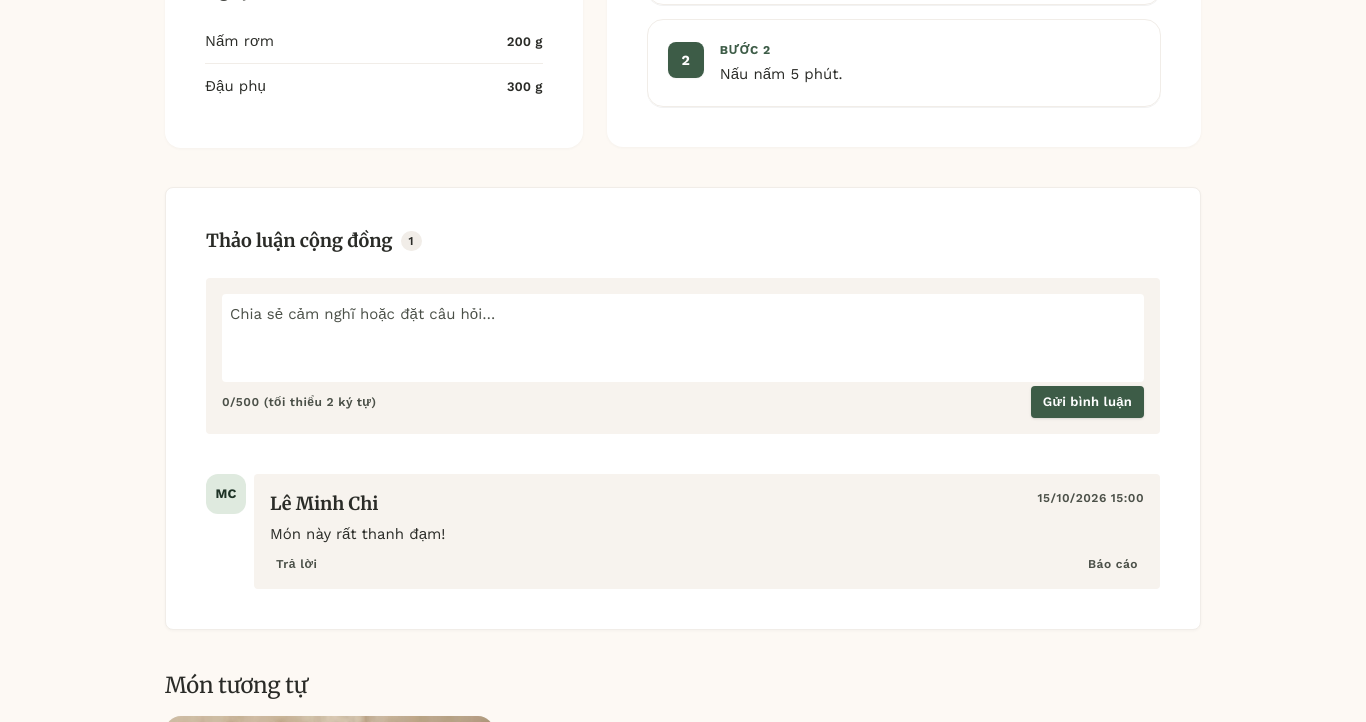
it: RecipeDetail (SCR-12) › Thành viên › bình luận gốc gọi POST /recipes/{id}/comments không kèm parentCommentId
(page scrolled)
Type "Ngon và dễ làm!" into the text box named "Viết bình luận" at x=683, y=338, box [222,294,1144,382]
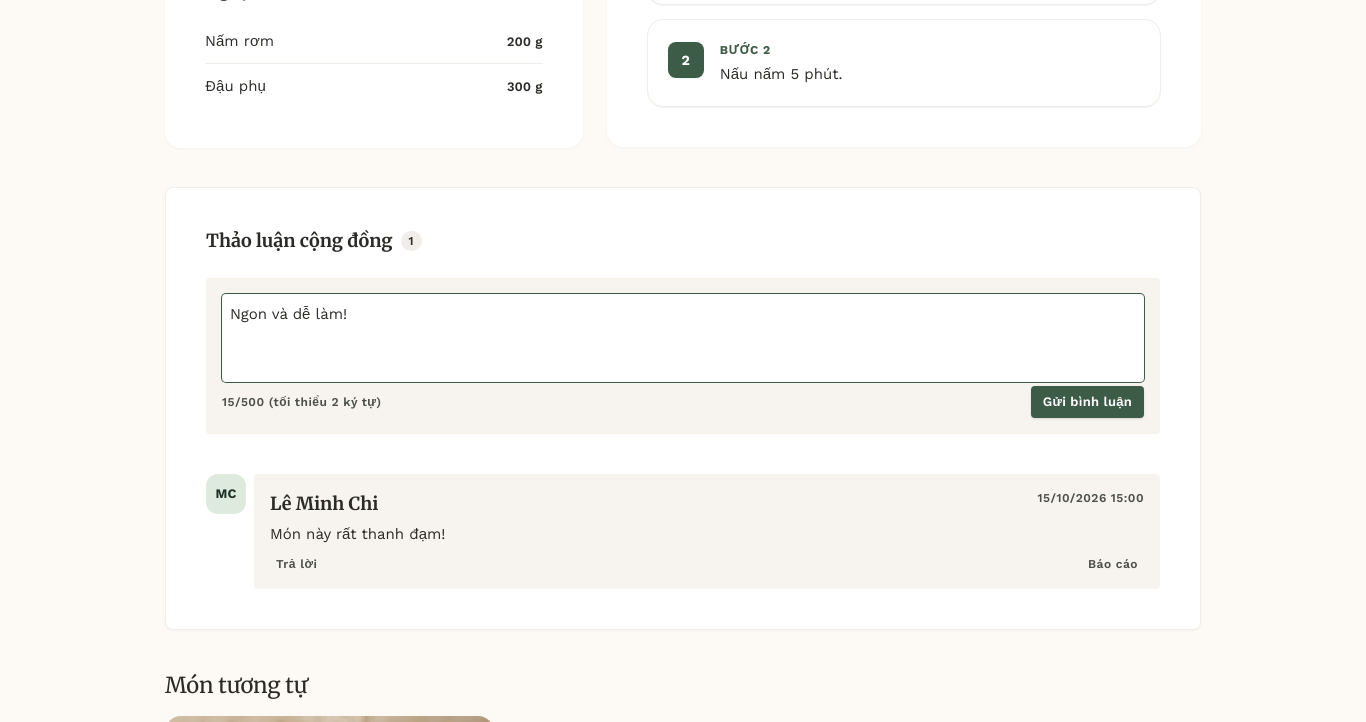
Click the button "Gửi bình luận" at x=1087, y=402, box [1031,386,1144,418]
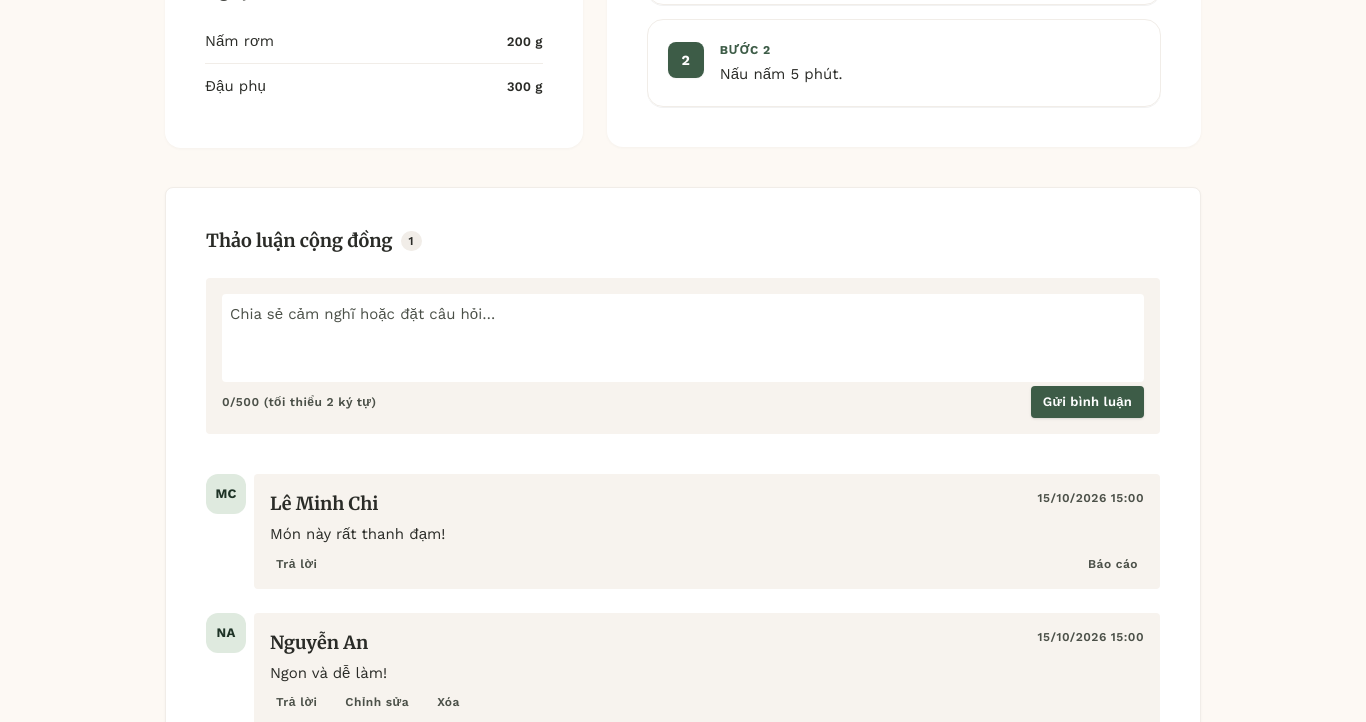
expect the text "Ngon và dễ làm!" is shown: met, box [270,664,387,682]
